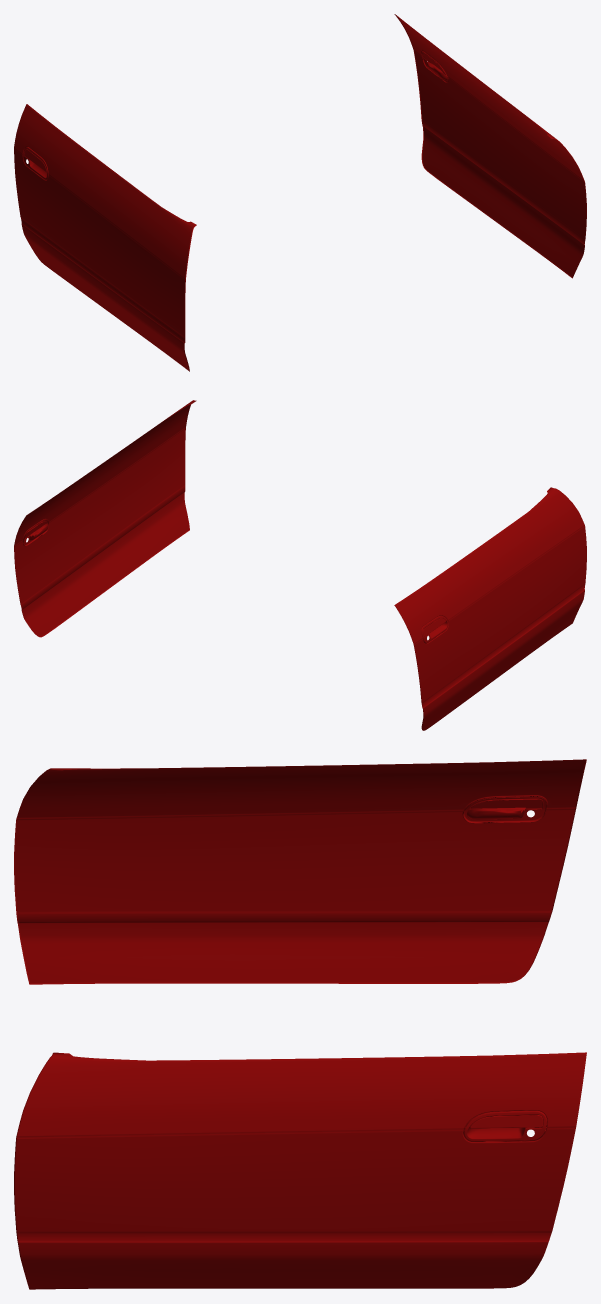
File: doors_oem.glb
The picture shows the model from 3 angles, top to bottom: view 1: azimuth 30°, elevation 25°; view 2: azimuth 150°, elevation 25°; view 3: azimuth 270°, elevation 25°; orthographic projection. The views are drawn at different scales.
Visible parts, largest first — view 1: Doors; view 2: Doors; view 3: Doors.
Boxes of the visible parts, x1,y1,x2,y2 form: Doors: [14, 14, 586, 371]; Doors: [14, 400, 586, 730]; Doors: [14, 759, 586, 1289].
Bounding box in the file's own units: 1.69 × 0.5685 × 1.28.
